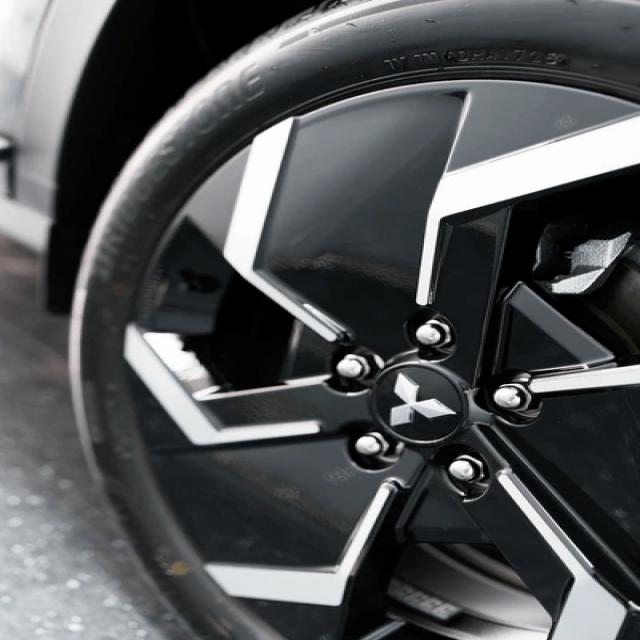mitsubishi: (378, 368, 465, 438)
